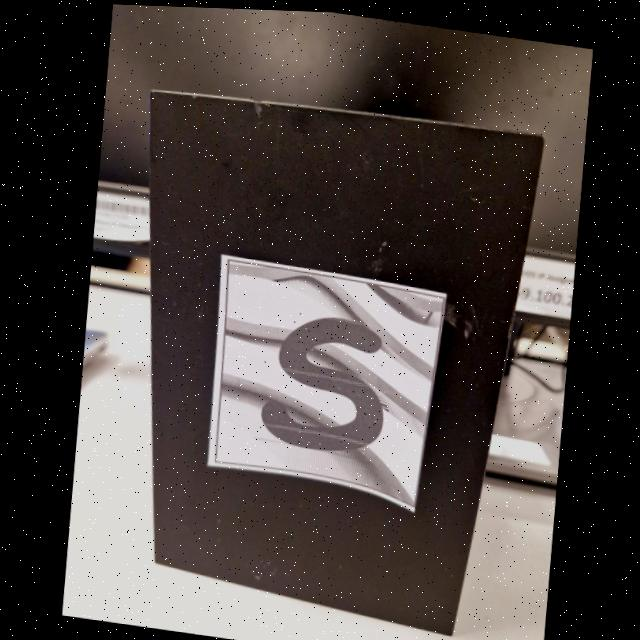S: (258, 315, 381, 448)
